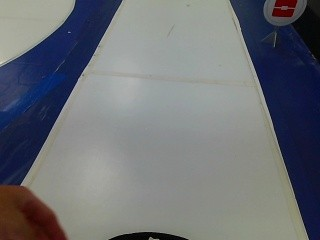company: (259, 0, 308, 26)
